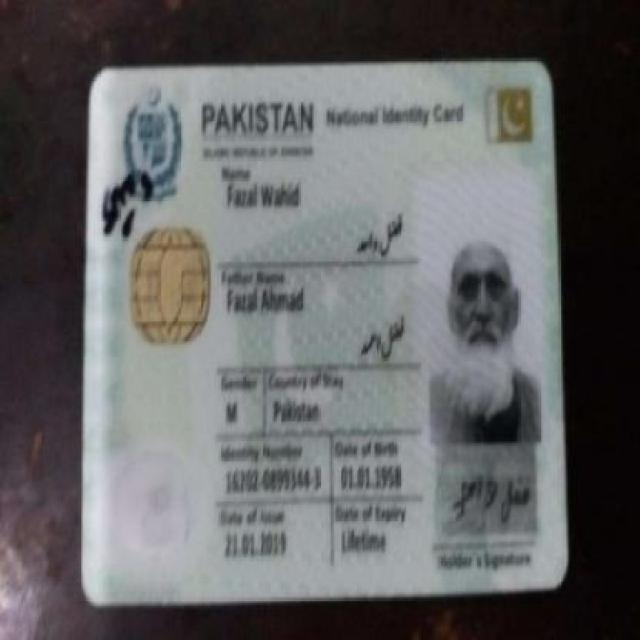Front: (80, 57, 569, 591)
